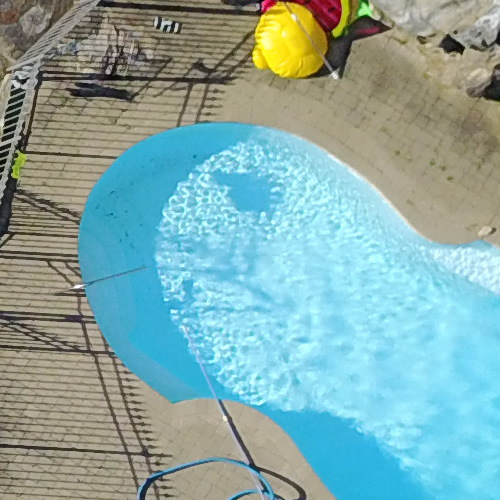toy: (242, 1, 339, 101), (256, 1, 404, 51)
